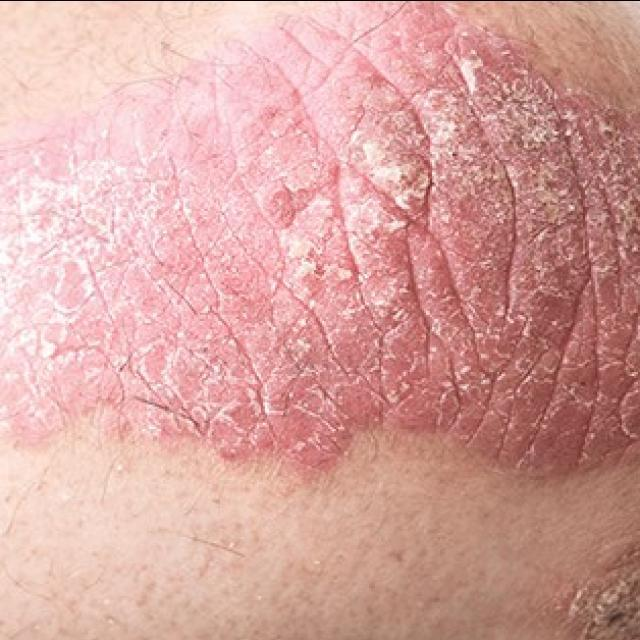Psoriasis: (0, 0, 640, 489), (534, 530, 640, 640)
